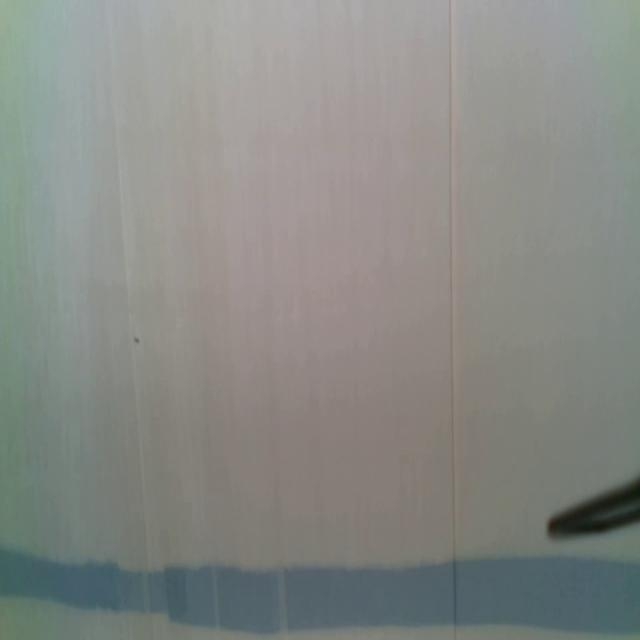color bleeding: (0, 538, 640, 636)
crease: (106, 2, 154, 571), (447, 0, 459, 640)
hole: (132, 334, 142, 347)
